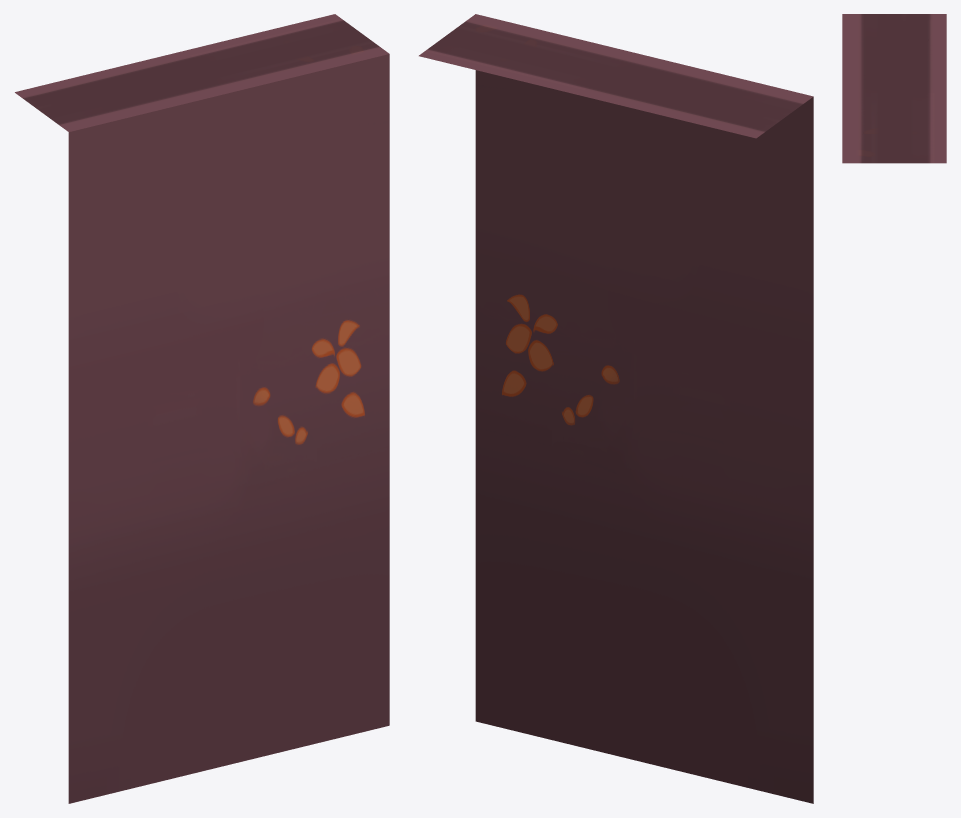
The model's file is desertWallLarge_MESH.fbx.
3 renders of one model, left to right at view 1: azimuth 30°, elevation 25°; view 2: azimuth 150°, elevation 25°; view 3: azimuth 270°, elevation 25°, orthographic. The views are drawn at different scales.
Parts seen in each view (by area): view 1: Desert_WallL; view 2: Desert_WallL; view 3: Desert_WallL.
Boxes of the visible parts, x1,y1,x2,y2 form: Desert_WallL: (15, 14, 389, 803); Desert_WallL: (419, 14, 813, 803); Desert_WallL: (842, 14, 946, 163).
Bounding box in the file's own units: 100 × 200 × 29.44.
Materials: 1 (1 with a texture image).
